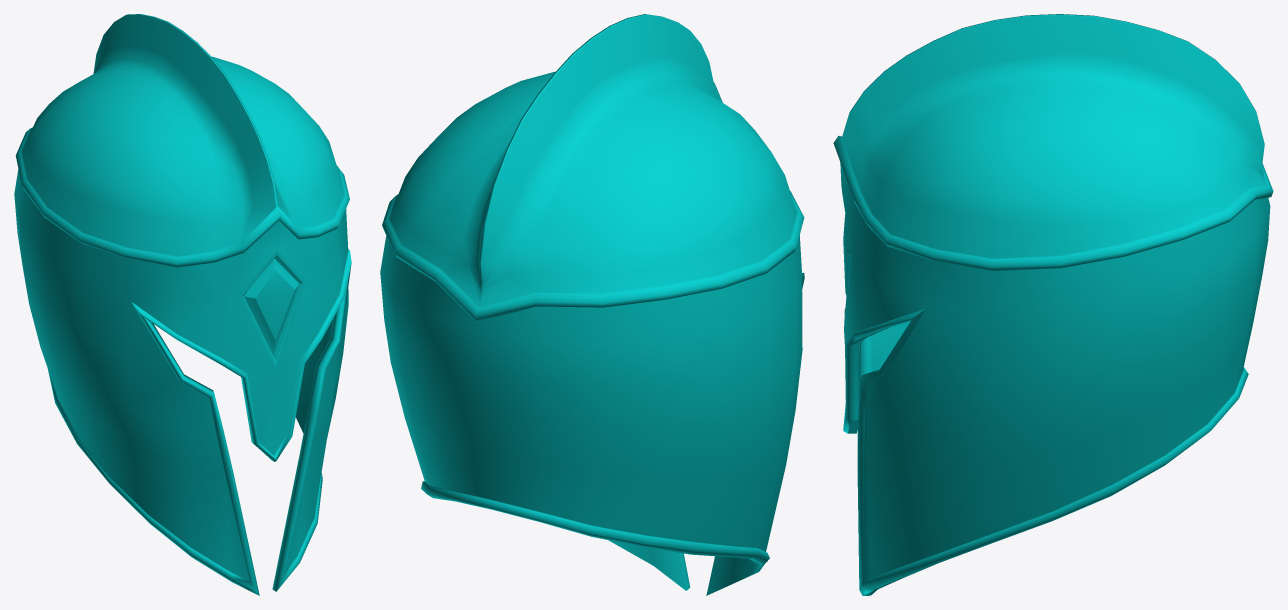
Rendered from HELMET005.FBX.
The picture shows the model from 3 angles, left to right: view 1: azimuth 30°, elevation 25°; view 2: azimuth 150°, elevation 25°; view 3: azimuth 270°, elevation 25°; orthographic projection. The views are drawn at different scales.
Visible parts, largest first — view 1: Helmet005_Helmet; view 2: Helmet005_Helmet; view 3: Helmet005_Helmet.
Part boxes in pixels (x1=…): Helmet005_Helmet: x1=14, y1=14, x2=351, y2=595; Helmet005_Helmet: x1=380, y1=14, x2=804, y2=595; Helmet005_Helmet: x1=833, y1=14, x2=1273, y2=595.
Bounding box in the file's own units: 0.2038 × 0.3476 × 0.2404.
